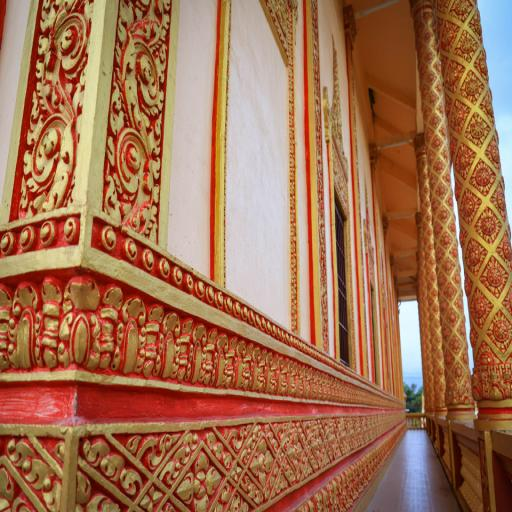hoa: (178, 449, 219, 512), (247, 434, 274, 487), (462, 282, 490, 325), (478, 252, 508, 292), (484, 315, 512, 357), (466, 156, 496, 192), (470, 201, 496, 242), (452, 22, 479, 58), (458, 67, 485, 103), (490, 176, 512, 220), (452, 188, 479, 222), (462, 106, 486, 144), (462, 234, 487, 270), (452, 137, 476, 173), (484, 129, 504, 168), (445, 94, 465, 132), (442, 55, 462, 91), (494, 226, 512, 266), (470, 340, 494, 370), (437, 15, 458, 48), (450, 0, 477, 23), (478, 85, 497, 114)
la: (116, 0, 166, 136), (42, 268, 108, 370), (13, 108, 76, 212), (104, 128, 160, 238), (34, 0, 83, 118), (0, 281, 42, 388), (108, 288, 151, 370), (147, 295, 182, 382), (178, 307, 208, 380), (131, 432, 170, 461), (5, 434, 29, 470), (77, 438, 105, 468), (98, 447, 121, 483), (20, 452, 46, 483), (40, 474, 60, 512), (173, 431, 198, 460), (119, 461, 141, 492), (156, 454, 177, 486), (86, 494, 120, 512), (140, 486, 161, 511)
